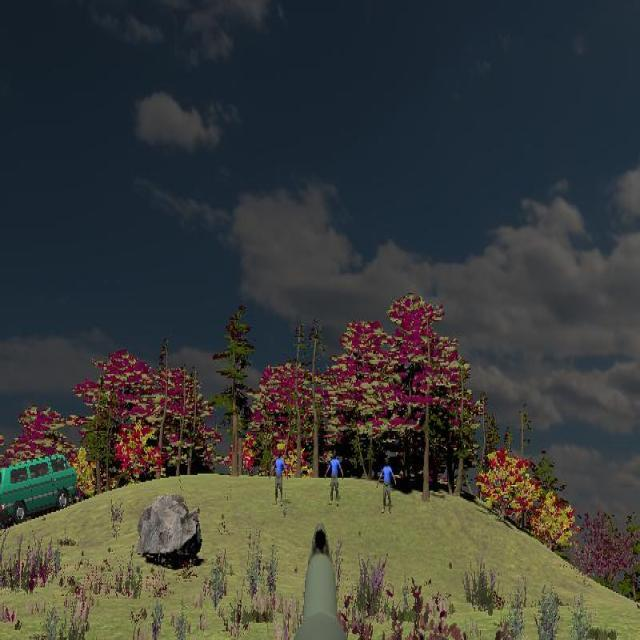Human: (377, 456, 396, 514), (325, 449, 343, 506), (270, 449, 288, 506)
car: (0, 454, 77, 525)
